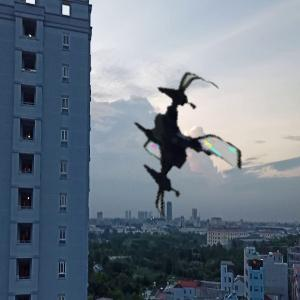drone: (113, 76, 253, 216)
